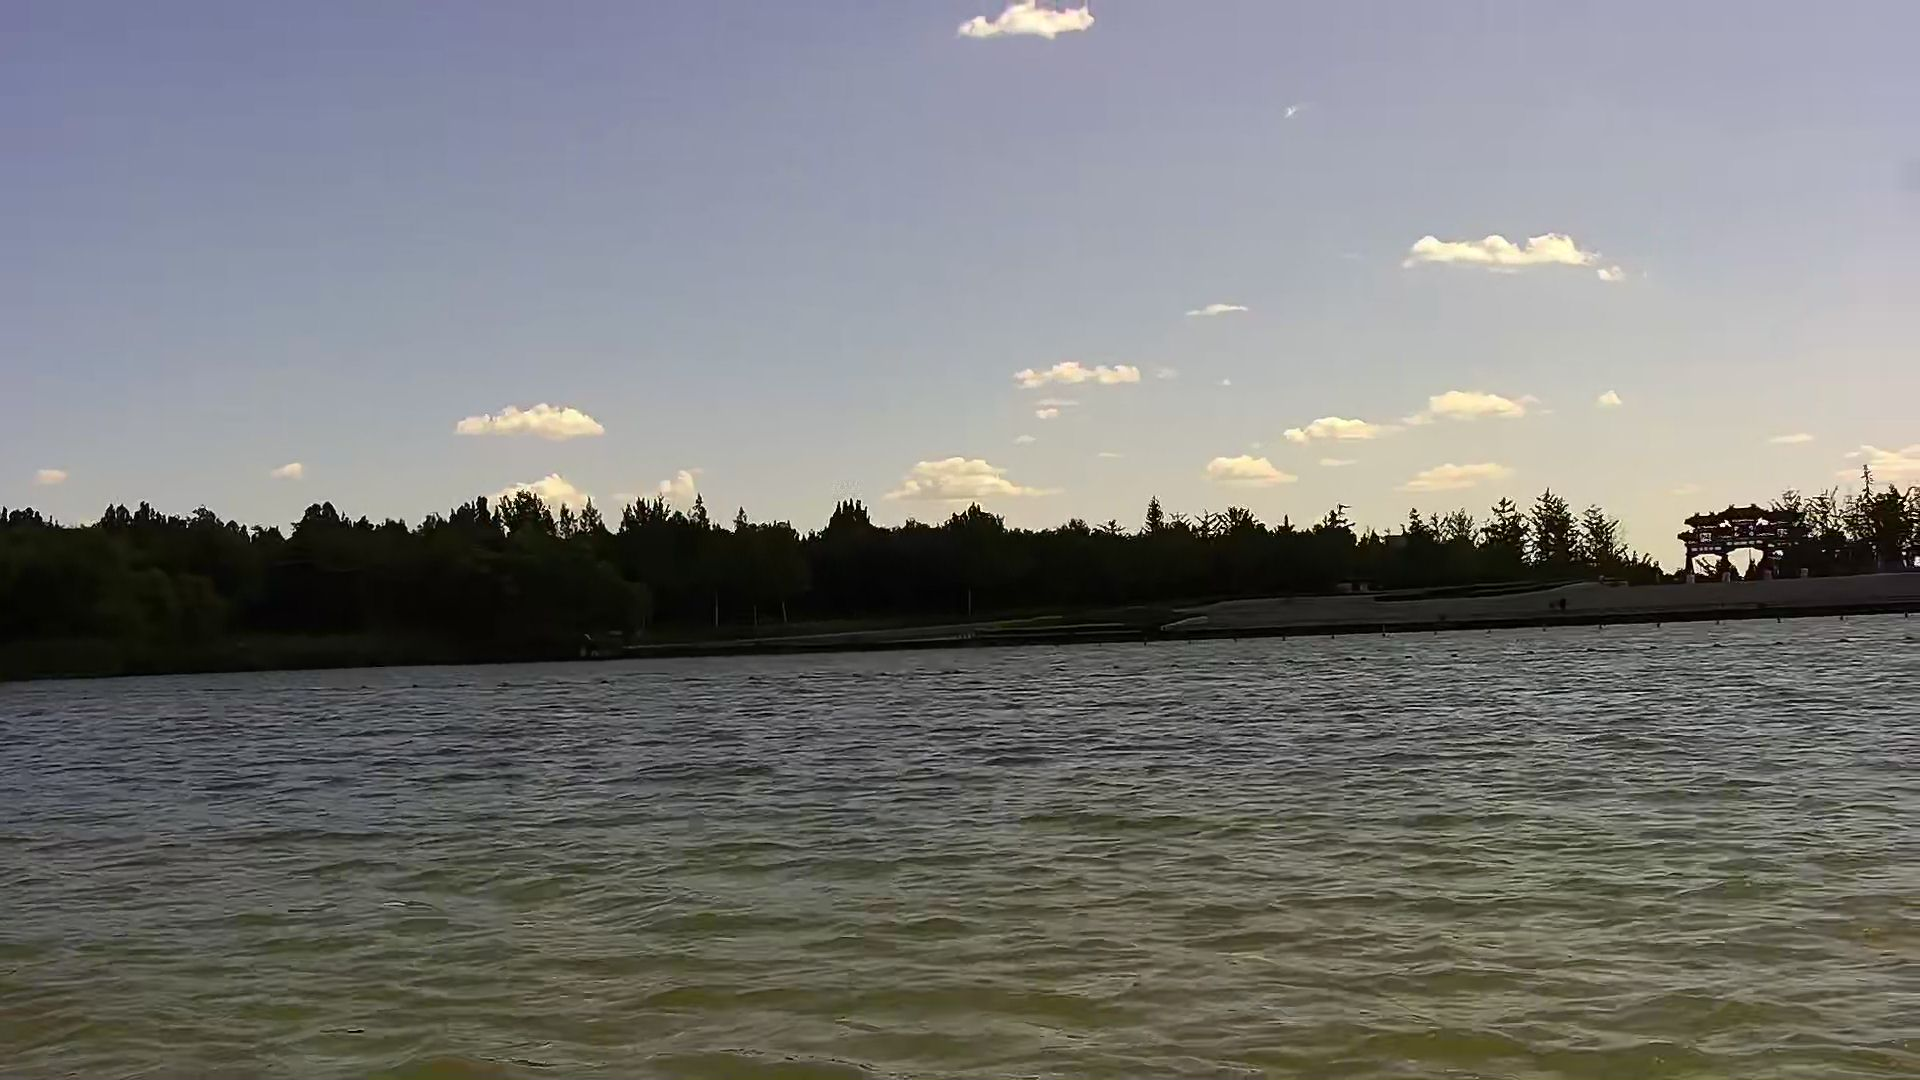harbor: (624, 564, 1920, 662)
